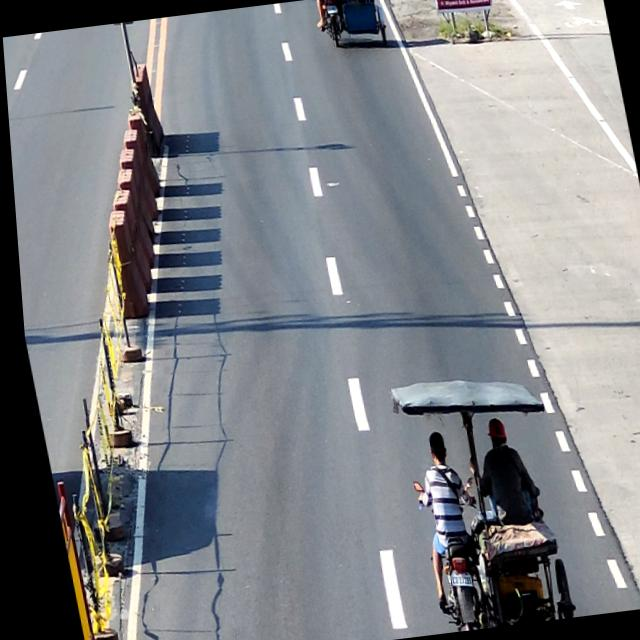License-Plate: (441, 570, 464, 588), (326, 5, 337, 14)
Tricycle: (381, 364, 577, 634), (321, 0, 388, 49)
